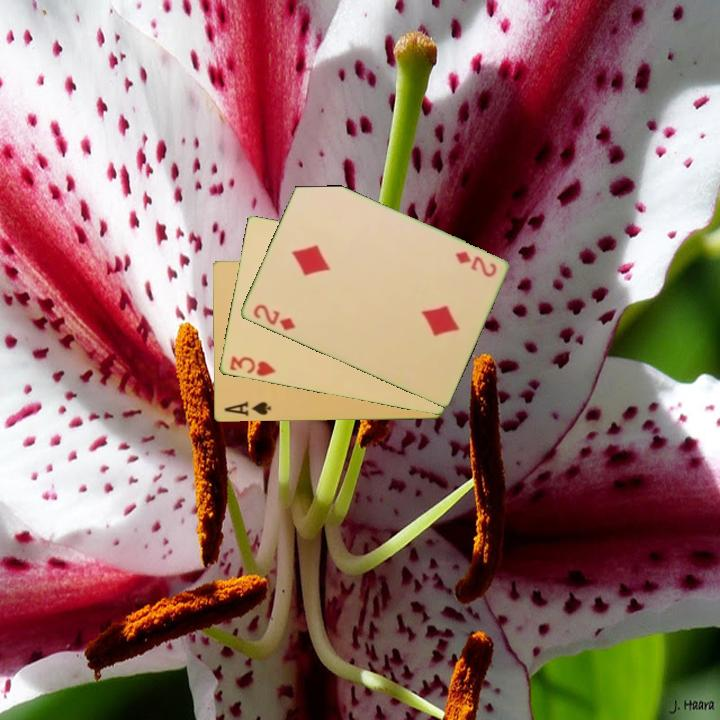2d: (249, 301, 298, 334), (451, 247, 499, 280)
3h: (226, 353, 278, 380)
As: (221, 398, 274, 419)
